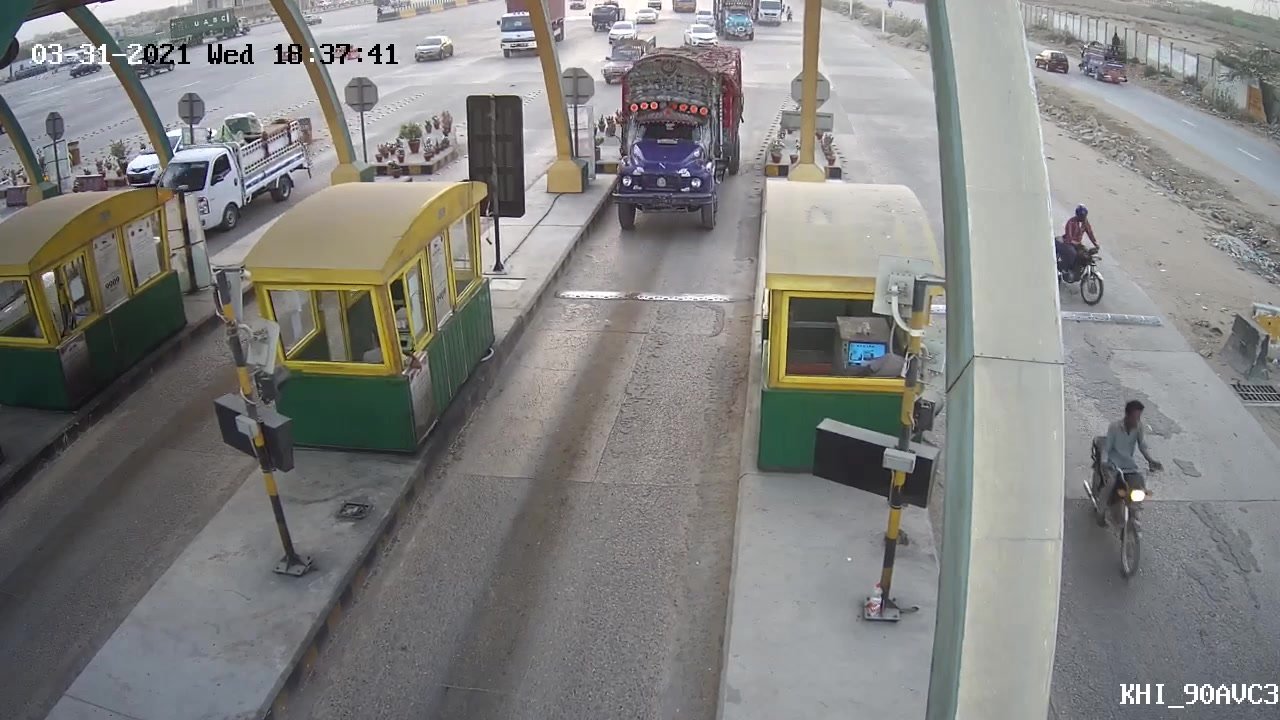F5: (594, 38, 752, 238)
